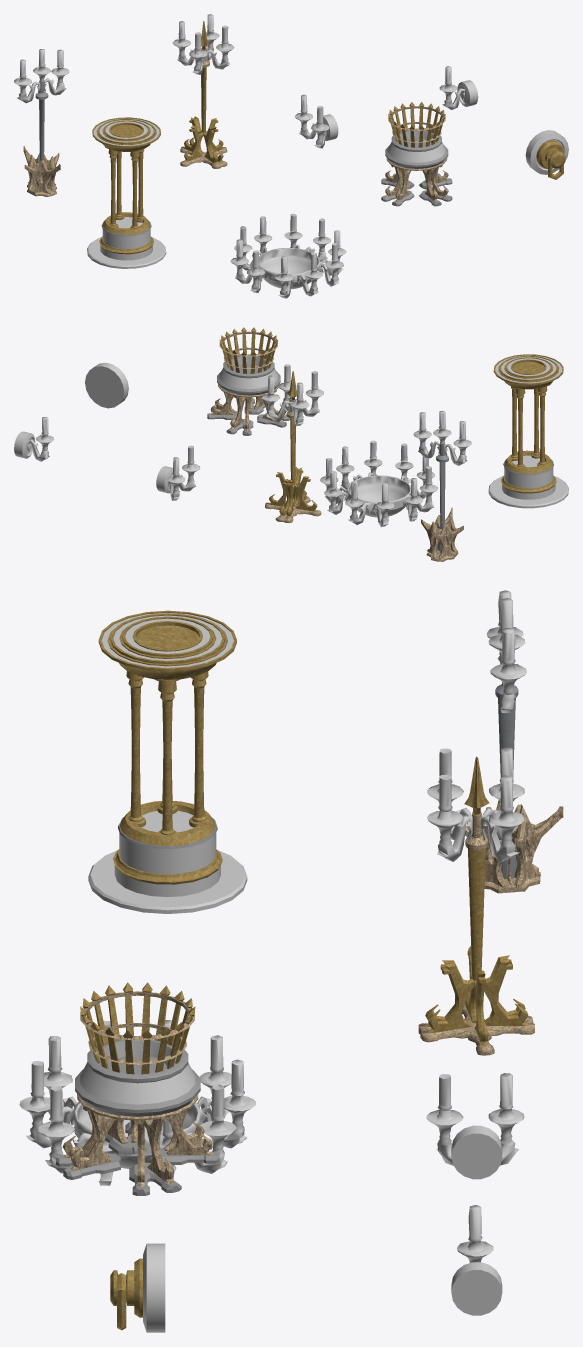
File: DecoAssets01.FBX
The picture shows the model from 3 angles, top to bottom: view 1: azimuth 30°, elevation 25°; view 2: azimuth 150°, elevation 25°; view 3: azimuth 270°, elevation 25°; orthographic projection. The views are drawn at different scales.
Visible parts, largest first — view 1: FD_Lamp00, Cylinder006, FD_FloorCandle, FD_FloorCandle00, FD_CandleHolder00, DF_ChainHolder, Cylinder012, FD_CandleHolder01, Cylinder014, FD_Candle01, FD_Candle00, Cylinder015 (+8 smaller); view 2: FD_Lamp00, Cylinder006, FD_FloorCandle, FD_FloorCandle00, FD_CandleHolder00, DF_ChainHolder, Cylinder012, FD_CandleHolder01, Cylinder014, FD_Candle01, Cylinder015, FD_Candle00 (+9 smaller); view 3: Cylinder006, FD_FloorCandle, FD_Lamp00, FD_FloorCandle00, Cylinder012, FD_CandleHolder00, DF_ChainHolder, Cylinder014, FD_Candle01, FD_CandleHolder01, Cylinder013, DF_ChainHolder001 (+9 smaller).
Boxes of the visible parts, bbox=[...] form: FD_Lamp00: bbox=[230, 213, 346, 298]; Cylinder006: bbox=[385, 102, 448, 168]; FD_FloorCandle: bbox=[87, 212, 166, 268]; FD_FloorCandle00: bbox=[92, 117, 160, 151]; FD_CandleHolder00: bbox=[172, 14, 234, 74]; DF_ChainHolder: bbox=[525, 130, 568, 174]; Cylinder012: bbox=[180, 116, 227, 168]; FD_CandleHolder01: bbox=[14, 49, 69, 103]; Cylinder014: bbox=[23, 146, 60, 196]; FD_Candle01: bbox=[295, 94, 329, 148]; FD_Candle00: bbox=[439, 66, 464, 109]; Cylinder015: bbox=[35, 81, 48, 185]; FD_Lamp00: bbox=[320, 440, 437, 527]; Cylinder006: bbox=[217, 327, 280, 395]; FD_FloorCandle: bbox=[488, 450, 568, 508]; FD_FloorCandle00: bbox=[493, 354, 563, 389]; FD_CandleHolder00: bbox=[261, 364, 323, 426]; DF_ChainHolder: bbox=[85, 362, 128, 408]; Cylinder012: bbox=[265, 467, 321, 522]; FD_CandleHolder01: bbox=[413, 410, 471, 465]; Cylinder014: bbox=[421, 507, 463, 561]; FD_Candle01: bbox=[167, 445, 200, 500]; Cylinder015: bbox=[436, 443, 448, 552]; FD_Candle00: bbox=[27, 417, 54, 461]; Cylinder006: bbox=[75, 982, 200, 1116]; FD_FloorCandle: bbox=[88, 801, 247, 913]; FD_Lamp00: bbox=[19, 1020, 255, 1185]; FD_FloorCandle00: bbox=[98, 610, 236, 679]; Cylinder012: bbox=[418, 946, 534, 1055]; FD_CandleHolder00: bbox=[427, 747, 524, 861]; DF_ChainHolder: bbox=[110, 1243, 165, 1332]; Cylinder014: bbox=[454, 800, 563, 893]; FD_Candle01: bbox=[426, 1073, 524, 1165]; FD_CandleHolder01: bbox=[486, 590, 526, 713]; Cylinder013: bbox=[465, 812, 488, 980]; DF_ChainHolder001: bbox=[451, 1125, 502, 1179].
Size of the model in its own units: 61.89 by 26.62 by 30.92.
